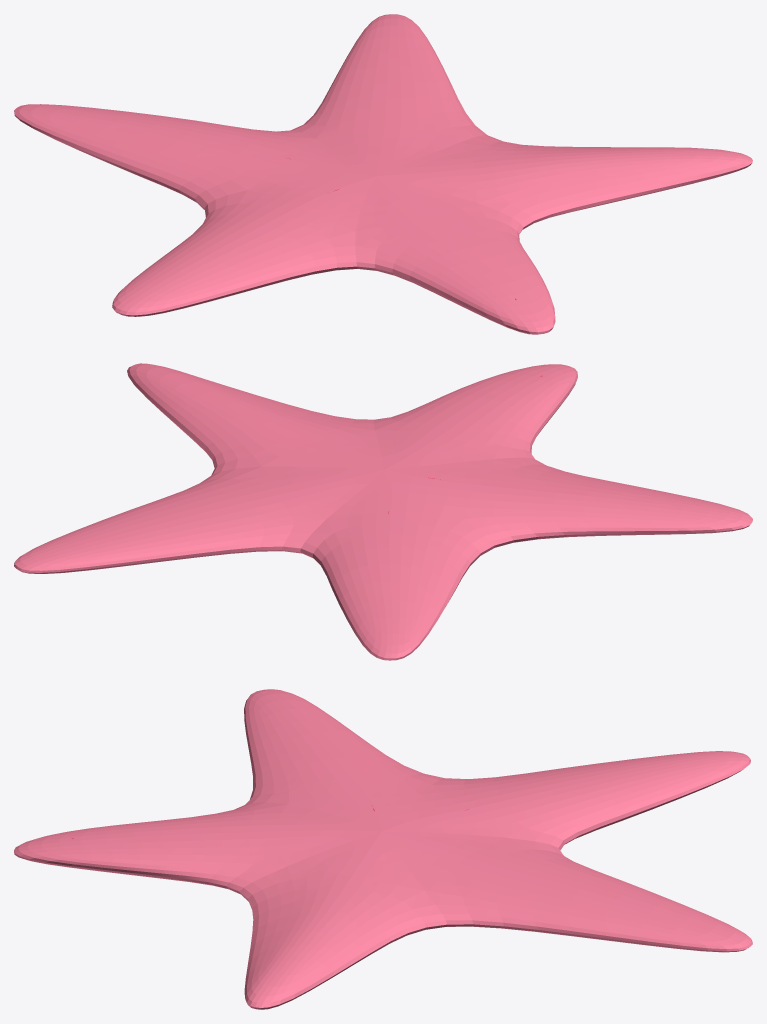
File: Lowpoly_Starfish.obj
3 renders of one model, top to bottom at view 1: azimuth 30°, elevation 25°; view 2: azimuth 150°, elevation 25°; view 3: azimuth 270°, elevation 25°, orthographic. The views are drawn at different scales.
Parts seen in each view (by area): view 1: Mesh; view 2: Mesh; view 3: Mesh.
Boxes of the visible parts, x1,y1,x2,y2 form: Mesh: (14, 14, 752, 334); Mesh: (14, 363, 752, 660); Mesh: (14, 689, 752, 1009).
Size of the model in its own units: 3.92 by 0.207 by 3.83.
3 materials, 1 textured.
